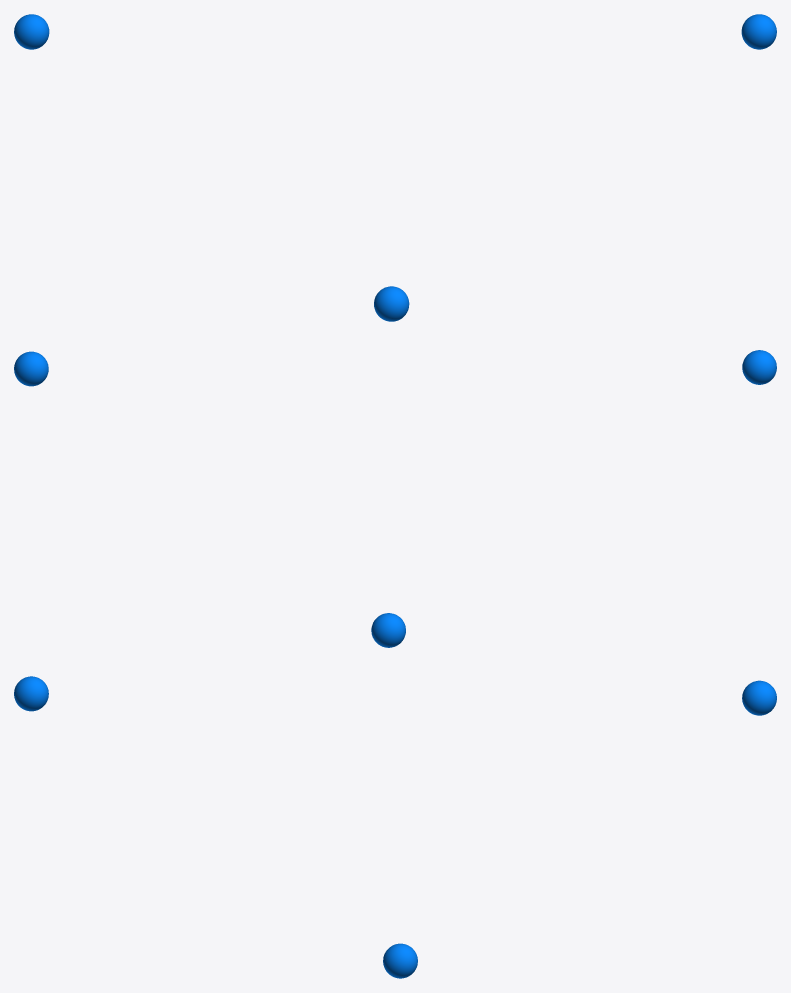
The picture shows the model from 3 angles, top to bottom: view 1: azimuth 30°, elevation 25°; view 2: azimuth 150°, elevation 25°; view 3: azimuth 270°, elevation 25°; orthographic projection.
Visible parts, largest first — view 1: Sphere052; view 2: Sphere052; view 3: Sphere052.
Boxes of the visible parts, x1=… form: Sphere052: x1=14, y1=14, x2=776, y2=321; Sphere052: x1=14, y1=350, x2=776, y2=647; Sphere052: x1=14, y1=676, x2=776, y2=978.
Size of the model in its own units: 157 by 8.22 by 179.
